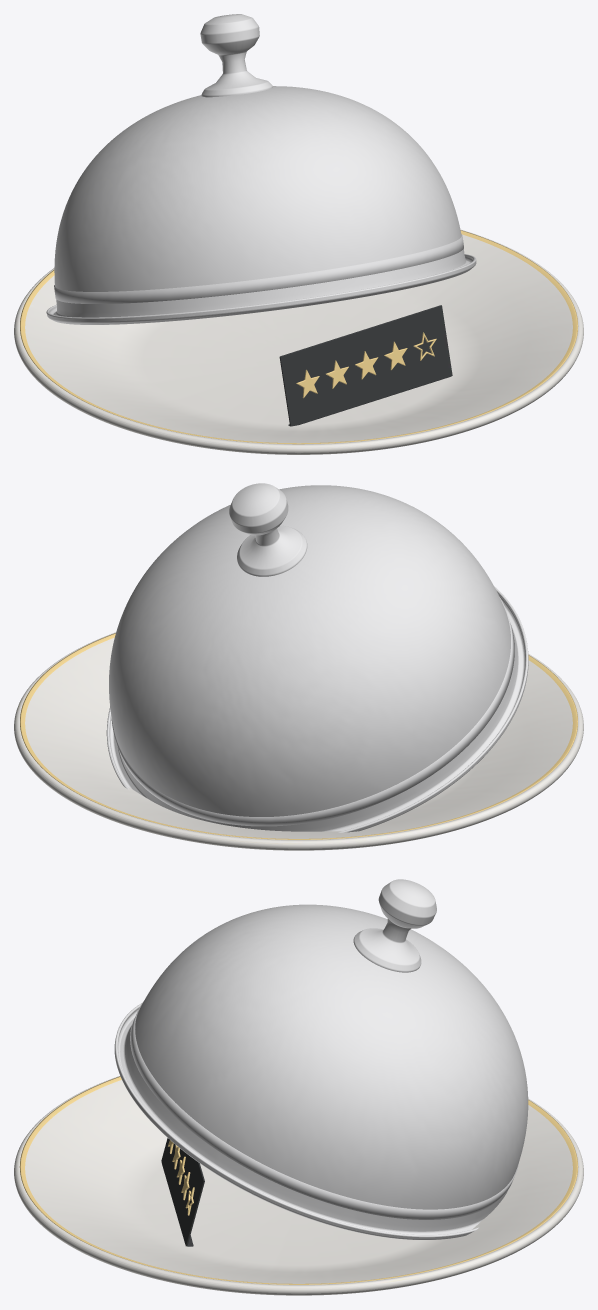
Rendered from cloche.glb.
The picture shows the model from 3 angles, top to bottom: view 1: azimuth 30°, elevation 25°; view 2: azimuth 150°, elevation 25°; view 3: azimuth 270°, elevation 25°; orthographic projection.
Parts seen in each view (by area): view 1: Dome, Plate, Card, Band, Knob; view 2: Dome, Plate, Knob, Band; view 3: Dome, Plate, Band, Knob, Card.
Boxes of the visible parts, x1=… form: Dome: x1=46, y1=86, x2=476, y2=324; Plate: x1=14, y1=229, x2=583, y2=454; Card: x1=279, y1=305, x2=452, y2=426; Band: x1=54, y1=234, x2=463, y2=303; Knob: x1=200, y1=14, x2=272, y2=97; Dome: x1=106, y1=485, x2=528, y2=832; Plate: x1=14, y1=632, x2=583, y2=850; Knob: x1=229, y1=483, x2=307, y2=576; Band: x1=111, y1=597, x2=514, y2=826; Dome: x1=114, y1=904, x2=528, y2=1239; Plate: x1=14, y1=1076, x2=583, y2=1295; Band: x1=130, y1=1001, x2=518, y2=1219; Knob: x1=353, y1=879, x2=436, y2=972; Card: x1=161, y1=1138, x2=204, y2=1246.
Bounding box in the file's own units: 0.2924 × 0.1847 × 0.2924.
4 materials, 2 textured.
